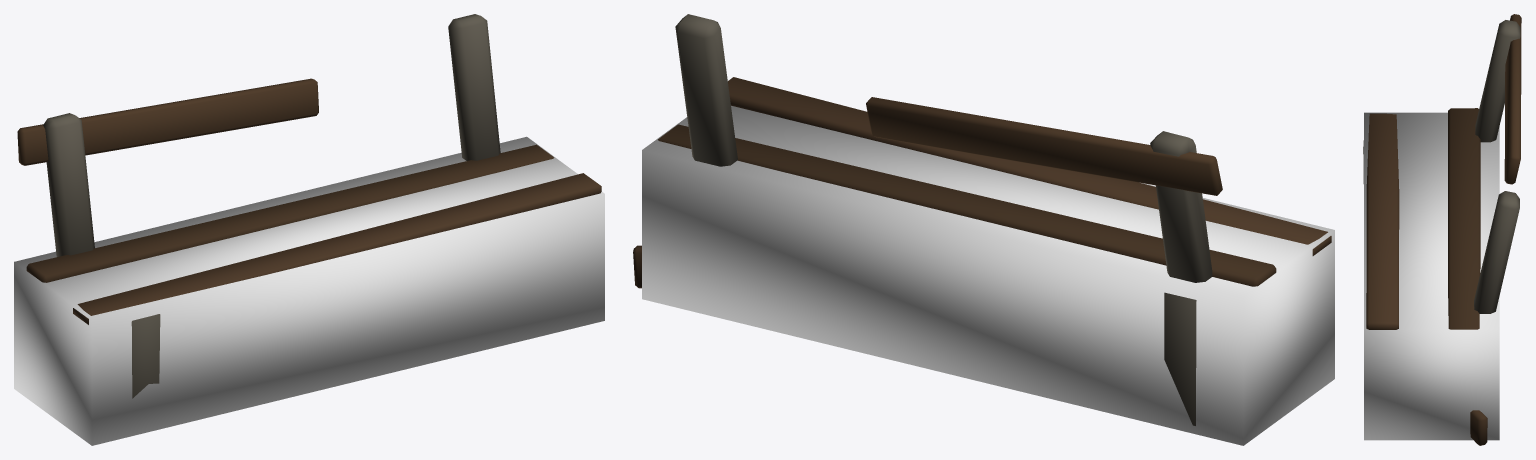
The model's file is banco_parque.glb.
3 views of the same model, side by side, from view 1: azimuth 30°, elevation 25°; view 2: azimuth 150°, elevation 25°; view 3: azimuth 270°, elevation 25° (orthographic). The views are drawn at different scales.
Parts seen in each view (by area): view 1: banco_parque-colcaja, banco; view 2: banco_parque-colcaja, banco; view 3: banco_parque-colcaja, banco.
Part boxes in pixels (x1=…): banco_parque-colcaja: x1=14, y1=136, x2=604, y2=445; banco: x1=17, y1=14, x2=601, y2=398; banco_parque-colcaja: x1=642, y1=105, x2=1334, y2=445; banco: x1=633, y1=14, x2=1331, y2=425; banco_parque-colcaja: x1=1364, y1=112, x2=1499, y2=440; banco: x1=1363, y1=14, x2=1521, y2=445.
Bounding box in the file's own units: 1.97 × 0.906 × 0.5837.
